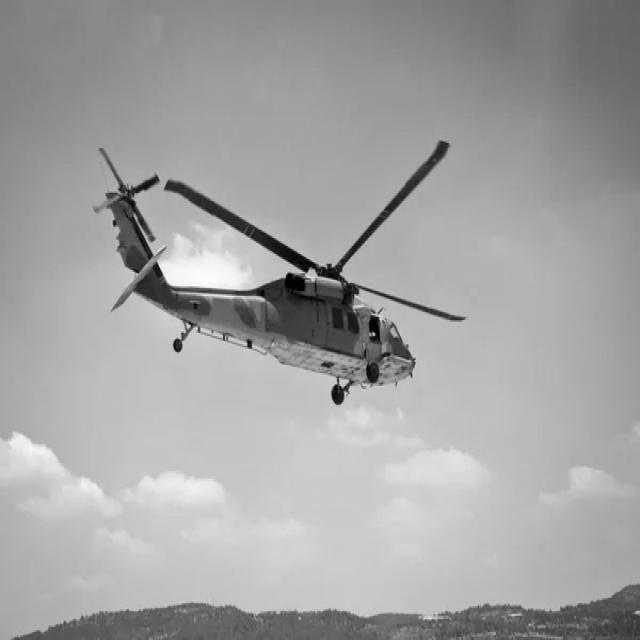Helicopter: (95, 140, 465, 404)
